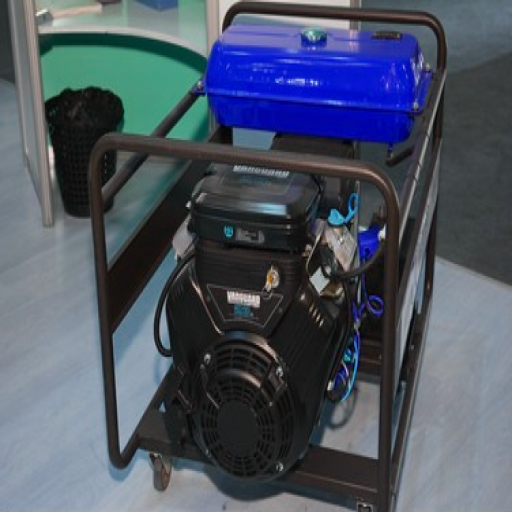portable_generator: (88, 3, 449, 512)
